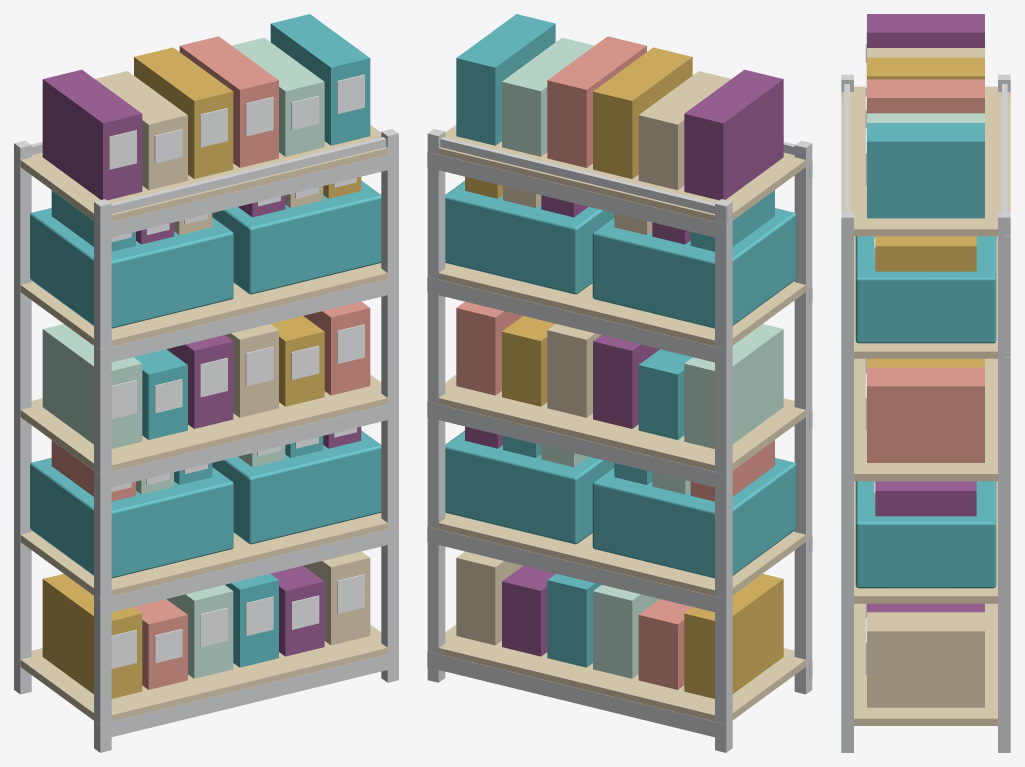
The model's file is pharmacy-and-high-street-chemist-stock-room-shelf-run-1d618f7e__37546.glb.
3 views of the same model, side by side, from view 1: azimuth 30°, elevation 25°; view 2: azimuth 150°, elevation 25°; view 3: azimuth 270°, elevation 25° (orthographic). The views are drawn at different scales.
Visible parts, largest first — view 1: stock-room-shelf-run; view 2: stock-room-shelf-run; view 3: stock-room-shelf-run.
Boxes of the visible parts, x1,y1,x2,y2 form: stock-room-shelf-run: (14, 14, 398, 752); stock-room-shelf-run: (427, 14, 812, 752); stock-room-shelf-run: (841, 14, 1010, 752).
Size of the model in its own units: 1.2 by 2.37 by 0.6025.
